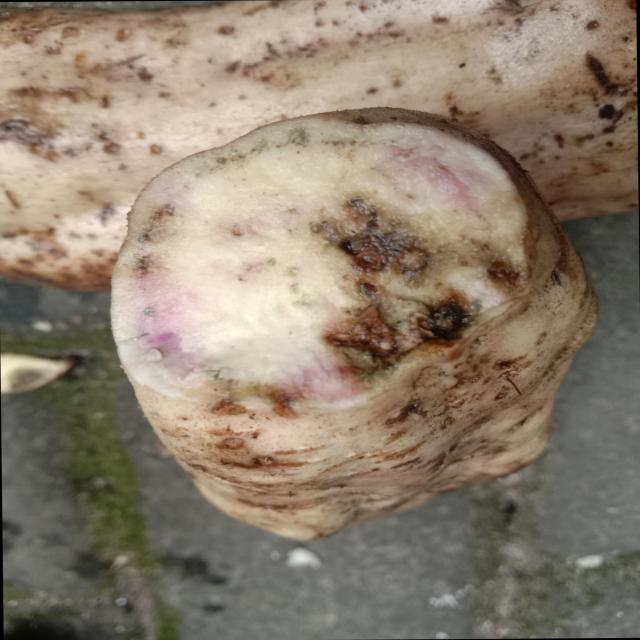Sick Sweet Potato_Tuber Rot: (112, 112, 528, 416)
